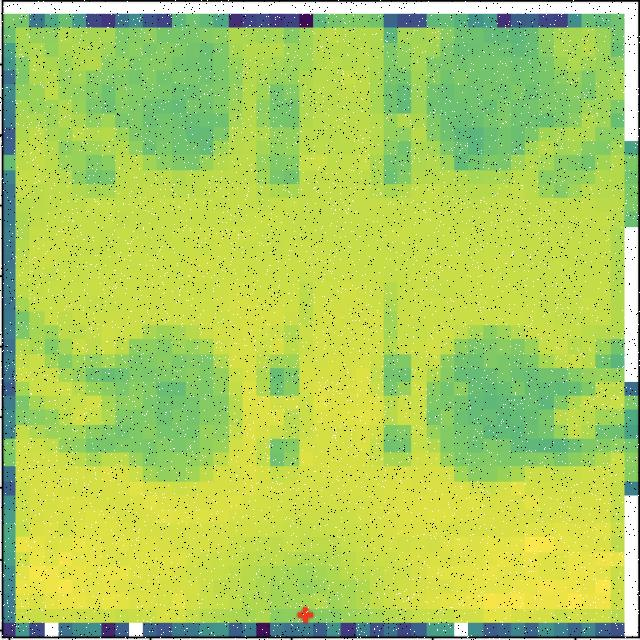Concrete: (99, 32, 245, 189)
Glass: (424, 316, 581, 496)
Metal: (80, 315, 246, 485)
Wood: (429, 27, 571, 184)
